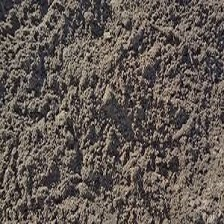loamy_soil: (8, 19, 212, 196)
